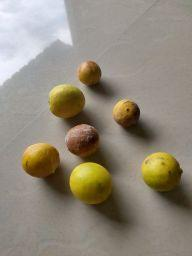lemon: (69, 162, 114, 205), (141, 152, 183, 191), (21, 143, 60, 179), (48, 84, 85, 118), (64, 124, 101, 157), (112, 99, 141, 129), (76, 60, 101, 86)
